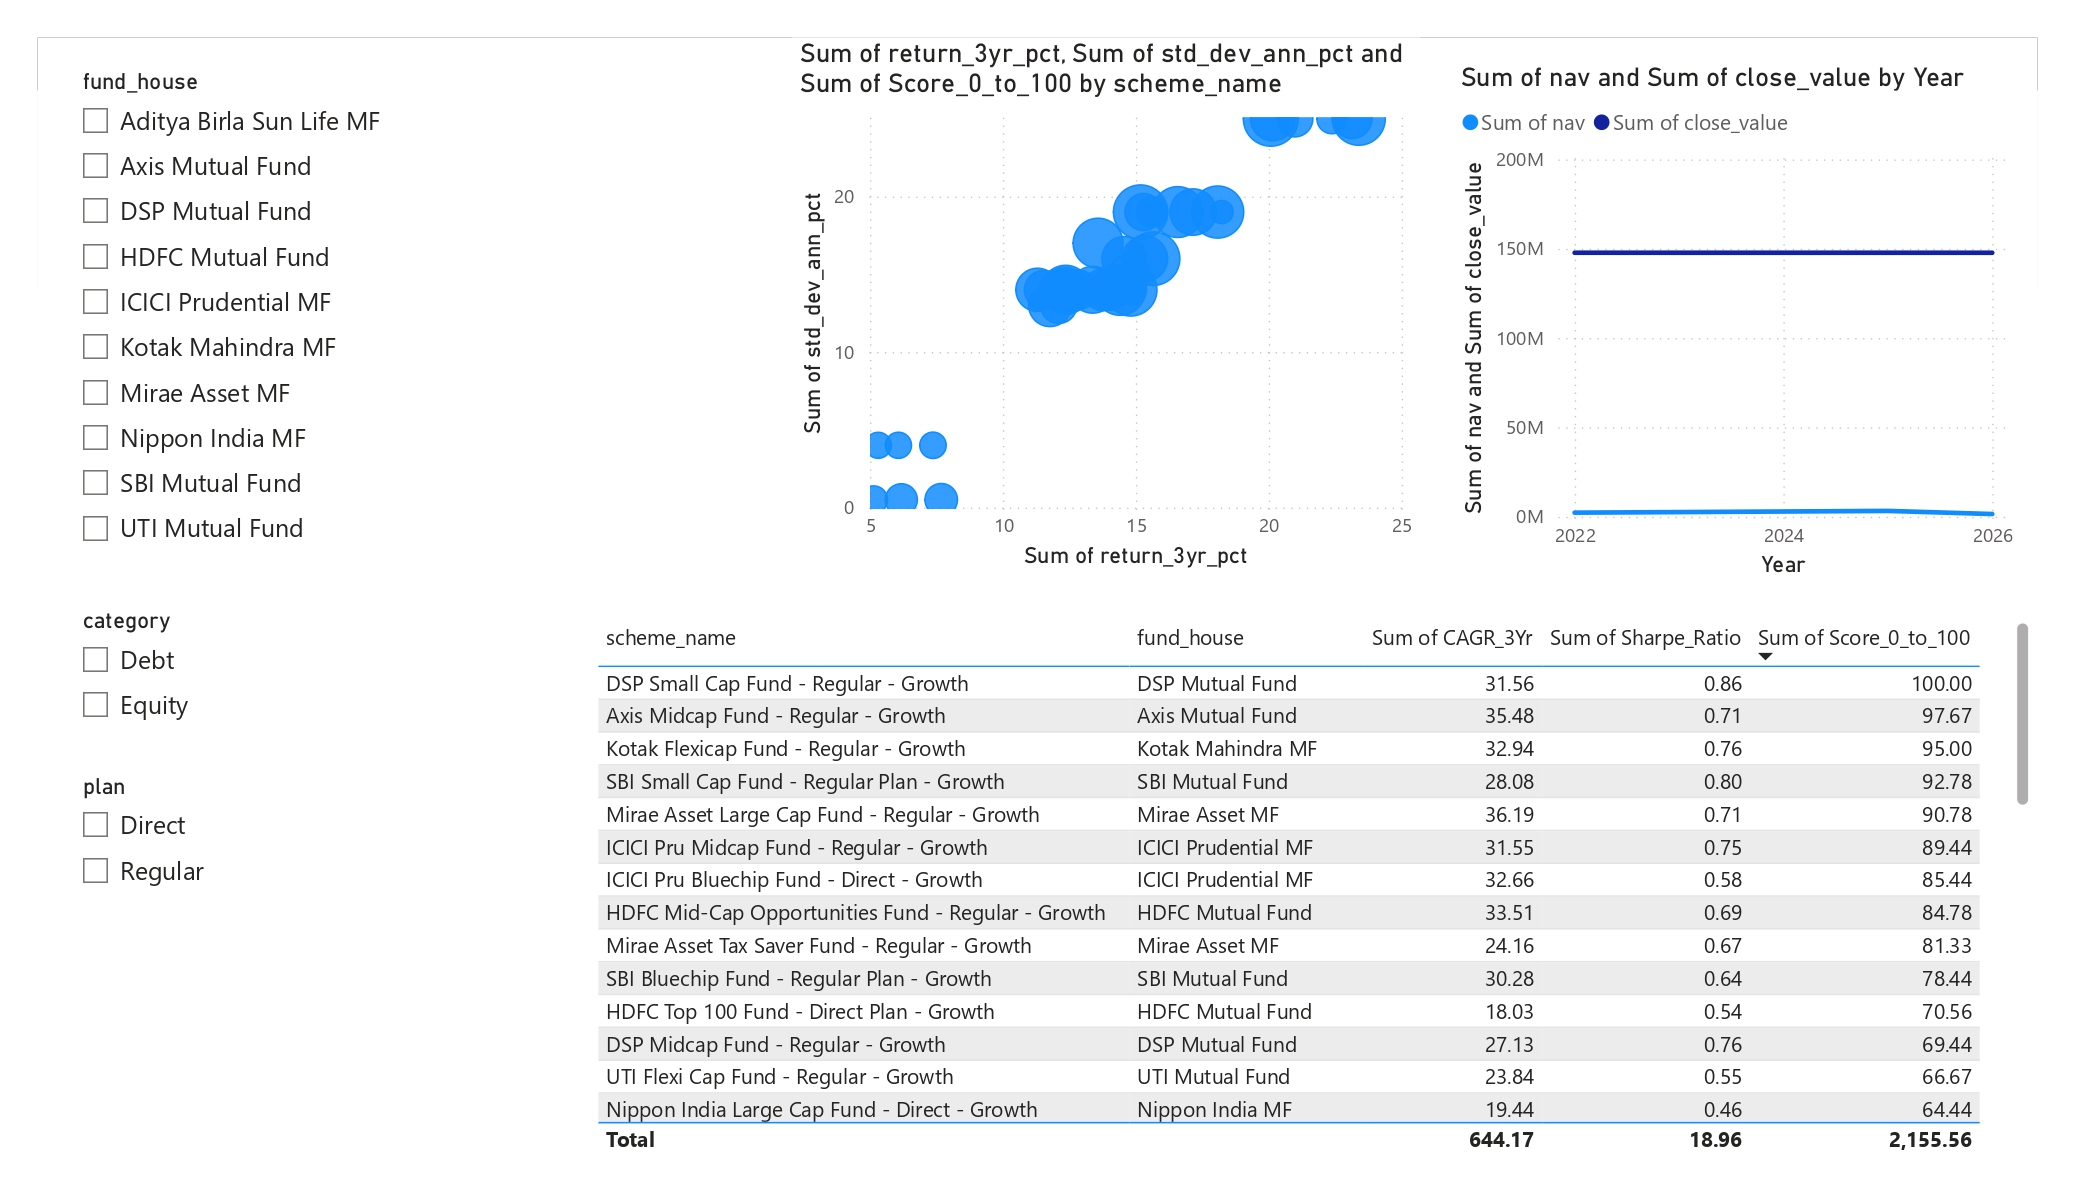

This screenshot's page, from the dashboard's own definition file:
{"tool":"powerbi","page":{"name":"Fund Performance","canvas":[1280,720],"ordinal":1},"visuals":[{"type":"scatterChart","fields":{"X":["Sum(scheme_performance_cleaned.return_3yr_pct)"],"Y":["Sum(scheme_performance_cleaned.std_dev_ann_pct)"],"Size":["Sum(fund_scorecard.Score_0_to_100)"],"Category":["fund_scorecard.scheme_name"]},"box":[483,0,402.3,344.8],"z":0},{"type":"tableEx","fields":{"Values":["fund_scorecard.scheme_name","fund_scorecard.fund_house","Sum(fund_scorecard.CAGR_3Yr)","Sum(fund_scorecard.Sharpe_Ratio)","Sum(fund_scorecard.Score_0_to_100)"]},"box":[353.4,369.3,926.9,351],"z":1000},{"type":"lineChart","fields":{"Category":["nav_history_cleaned.date.Variation.Date Hierarchy.Year","nav_history_cleaned.date.Variation.Date Hierarchy.Quarter","nav_history_cleaned.date.Variation.Date Hierarchy.Month","nav_history_cleaned.date.Variation.Date Hierarchy.Day"],"Y":["Sum(nav_history_cleaned.nav)","Sum(benchmark_indices_cleaned.close_value)"]},"box":[906.1,14.7,363.2,335.1],"z":2000},{"type":"slicer","fields":{"Values":["fund_master_cleaned.fund_house"]},"box":[15.9,14.7,397.4,335.1],"z":3000},{"type":"slicer","fields":{"Values":["fund_master_cleaned.category"]},"box":[15.9,359.5,337.5,96.6],"z":4000},{"type":"slicer","fields":{"Values":["fund_master_cleaned.plan"]},"box":[15.9,465.9,337.5,100.3],"z":5000}]}

Visuals, with their boxes on the page's 1280x720 design canvas (x1, y1, x2, y2). These are canvas units, not pixel positions in the 2075x1200 screenshot, which may show the page scaled, cropped or inside an application window:
scatterChart - Sum(scheme_performance_cleaned.return_3yr_pct) x Sum(scheme_performance_cleaned.std_dev_ann_pct): {"x1": 483, "y1": 0, "x2": 885, "y2": 345}
tableEx - fund_scorecard.scheme_name x fund_scorecard.fund_house: {"x1": 353, "y1": 369, "x2": 1280, "y2": 720}
lineChart - nav_history_cleaned.date.Variation.Date Hierarchy.Year x nav_history_cleaned.date.Variation.Date Hierarchy.Quarter: {"x1": 906, "y1": 15, "x2": 1269, "y2": 350}
slicer - fund_master_cleaned.fund_house: {"x1": 16, "y1": 15, "x2": 413, "y2": 350}
slicer - fund_master_cleaned.category: {"x1": 16, "y1": 360, "x2": 353, "y2": 456}
slicer - fund_master_cleaned.plan: {"x1": 16, "y1": 466, "x2": 353, "y2": 566}
